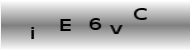6: (88, 16, 102, 30)
C: (133, 7, 148, 20)
E: (58, 18, 72, 31)
i: (29, 26, 35, 39)
v: (109, 23, 123, 35)
